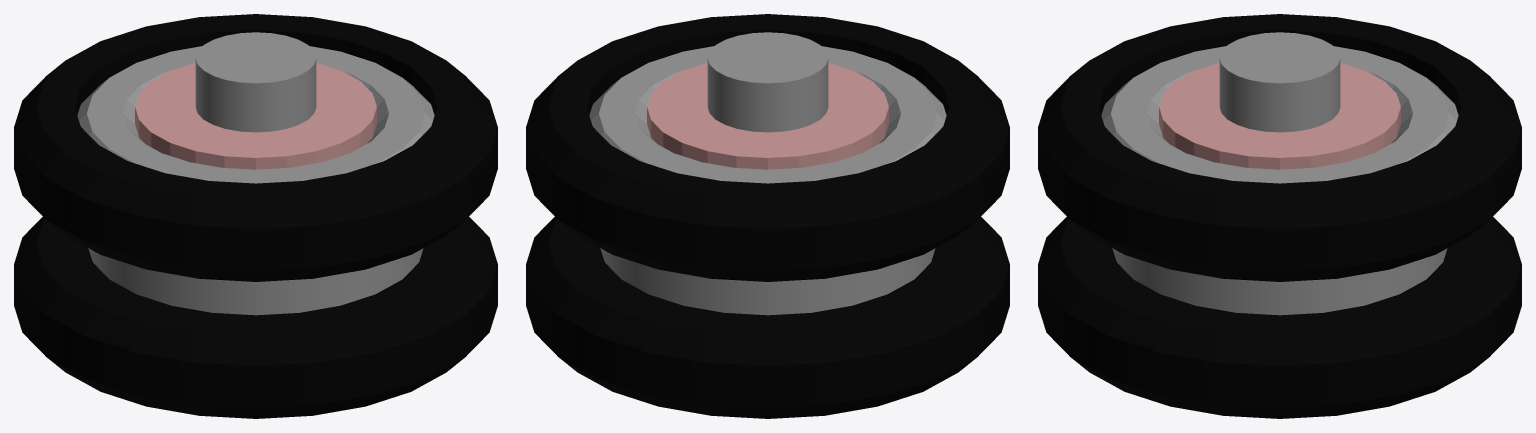
Rendered from Wheel02.FBX.
3 views of the same model, side by side, from view 1: azimuth 30°, elevation 25°; view 2: azimuth 150°, elevation 25°; view 3: azimuth 270°, elevation 25° (orthographic).
Visible parts, largest first — view 1: Cylinder001; view 2: Cylinder001; view 3: Cylinder001.
Boxes of the visible parts, x1,y1,x2,y2 form: Cylinder001: [14, 14, 497, 418]; Cylinder001: [526, 14, 1009, 418]; Cylinder001: [1038, 14, 1521, 418].
Size of the model in its own units: 40 by 40 by 28.96.
